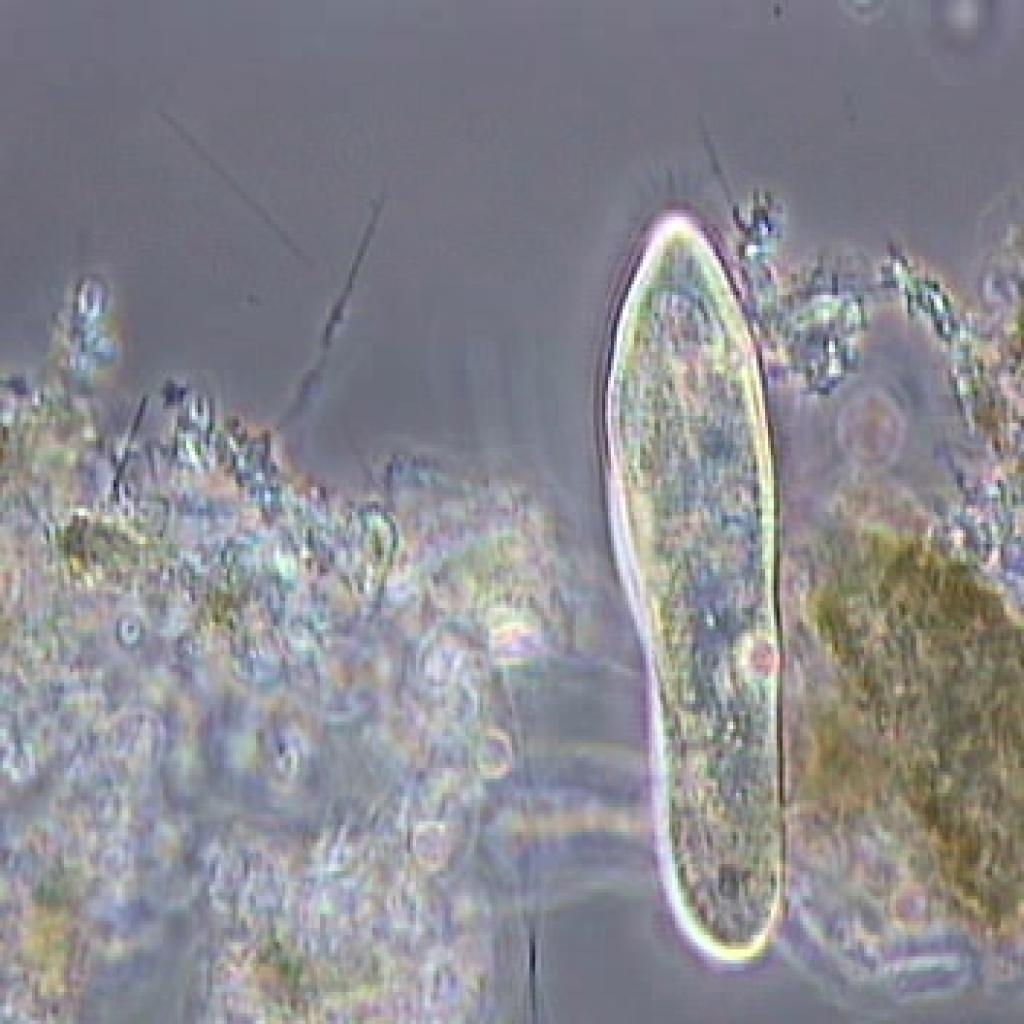Paramecium: (585, 144, 823, 987)
